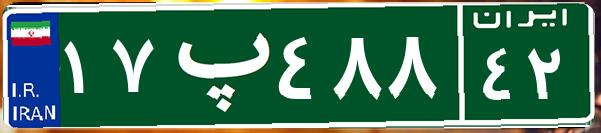1: (57, 26, 110, 107)
2: (525, 38, 570, 115)
4: (273, 28, 330, 110), (475, 38, 525, 113)
7: (110, 28, 158, 105)
8: (385, 28, 445, 110), (330, 28, 385, 110)
پ: (158, 15, 273, 115)
